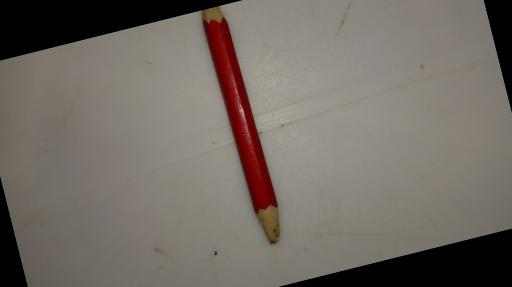Pencil: (201, 3, 285, 247)
